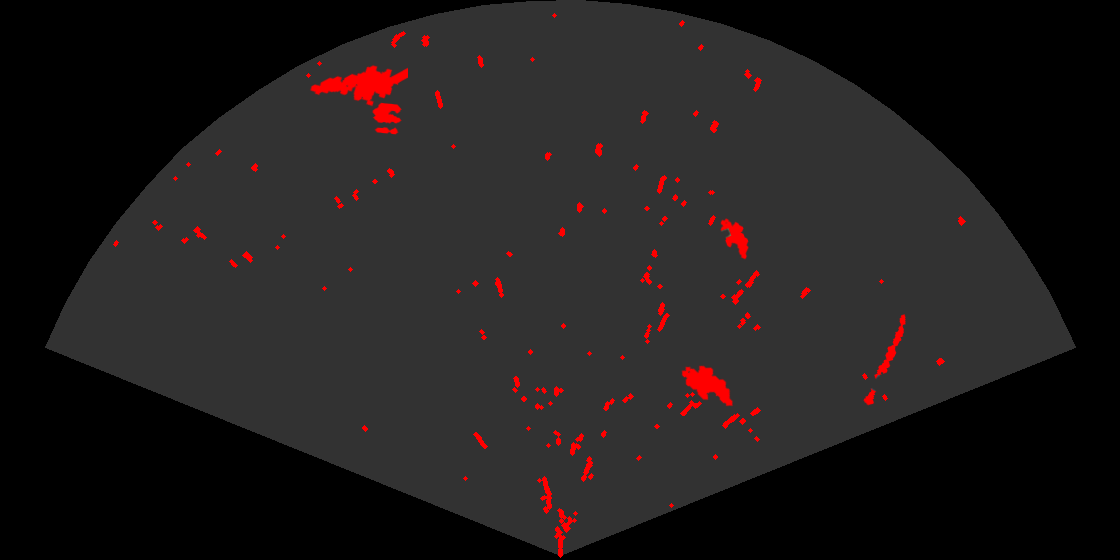AUV: (680, 364, 735, 408), (719, 217, 750, 261)
ball: (371, 101, 403, 136)
chain: (862, 313, 907, 407)
frogman: (308, 63, 408, 108)
